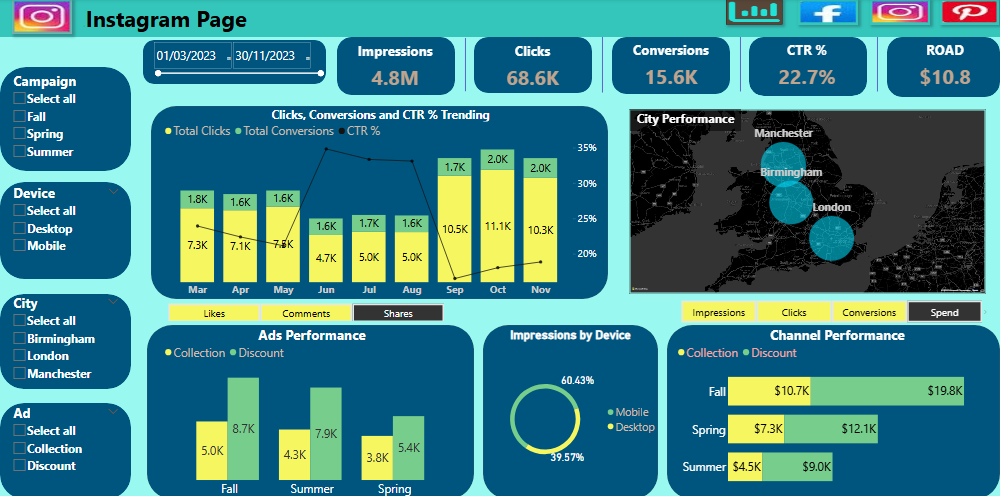

The dashboard page shown, as its layout file describes it:
{"tool":"powerbi","page":{"name":"Instagram","canvas":[4000,2000],"ordinal":2},"visuals":[{"type":"shape","box":[0,0,4000,152],"z":0},{"type":"textbox","box":[288,12,736,140],"z":1000},{"type":"shape","box":[0,272,524,416],"z":2000},{"type":"slicer","fields":{"Values":["Data.Campaign"]},"box":[40,284,444,388],"z":3000},{"type":"shape","box":[0,732,524,388],"z":4000},{"type":"shape","box":[0,1180,524,380],"z":5000},{"type":"shape","box":[0,1616,524,384],"z":6000},{"type":"slicer","fields":{"Values":["Data.City"]},"box":[40,1172,444,388],"z":7000},{"type":"slicer","fields":{"Values":["Data.Ad"]},"box":[40,1612,444,388],"z":8000},{"type":"shape","box":[572,164,732,176],"z":9000},{"type":"slicer","fields":{"Values":["Calendar.Date"]},"box":[604,164,700,176],"z":10000},{"type":"shape","box":[604,428,1828,772],"z":11000},{"type":"lineStackedColumnComboChart","title":"Clicks, Conversions and CTR % Trending","fields":{"Category":["Calendar.Month_Name","Calendar.Day_Name"],"Y":["_measures.Total Clicks","_measures.Total Conversions"],"Y2":["_measures.CTR %"]},"box":[648,428,1748,772],"z":12000},{"type":"map","title":"City Performance","fields":{"Category":["Data.City"],"Size":["_measures.CPC"]},"box":[2516,440,1428,740],"z":13000},{"type":"shape","box":[2668,1304,1332,696],"z":14000},{"type":"shape","box":[588,1304,1308,696],"z":15000},{"type":"clusteredColumnChart","title":"Ads Performance","fields":{"Y":["_measures.Total Shares"],"Category":["Data.Campaign"],"Series":["Data.Ad"]},"box":[648,1304,1200,696],"z":16000},{"type":"shape","box":[1932,1304,700,696],"z":17000},{"type":"donutChart","fields":{"Category":["Data.Device"],"Y":["_measures.Total Impressions"]},"box":[1930.9,1315.5,700.1,673.4],"z":18000},{"type":"slicer","fields":{"Values":["Data.Device"]},"box":[40.1,731.3,445.9,388],"z":19000},{"type":"image","box":[48,0,240,140],"z":20000},{"type":"image","box":[2903,0,227.4,102.6],"z":21000},{"type":"image","box":[3192.9,0,240.8,102.6],"z":22000},{"type":"image","box":[3478.3,0,240.8,102.6],"z":23000},{"type":"image","box":[3759.2,0,236.3,102.6],"z":24000},{"type":"shape","box":[1348,152,472,232],"z":25000},{"type":"shape","box":[2996,152,472,236],"z":26000},{"type":"shape","box":[3548,152,452,240],"z":27000},{"type":"card","title":"Impressions","fields":{"Values":["_measures.Total Impressions"]},"box":[1360.1,169.5,441.5,205.1],"z":28000},{"type":"shape","box":[1896,152,472,224],"z":29000},{"type":"shape","box":[2448,152,472,228],"z":30000},{"type":"card","title":"Clicks","fields":{"Values":["_measures.Total Clicks"]},"box":[1913,169.5,437,205.1],"z":31000},{"type":"card","title":"Conversions","fields":{"Values":["_measures.Total Conversions"]},"box":[2470.5,165,423.6,205.1],"z":32000},{"type":"card","title":"CTR %","fields":{"Values":["_measures.CTR %"]},"box":[3032.3,165,392.4,209.6],"z":33000},{"type":"card","title":"ROAD","fields":{"Values":["_measures.ROAD"]},"box":[3621,165,321.1,205.1],"z":34000},{"type":"shape","box":[1823.9,156.1,75.8,214],"z":35000},{"type":"shape","box":[2372.4,151.6,75.8,223],"z":36000},{"type":"shape","box":[2925.3,151.6,75.8,218.5],"z":37000},{"type":"shape","box":[3473.8,151.6,75.8,218.5],"z":38000},{"type":"slicer","fields":{"Values":["Parameter.Parameter"]},"box":[2700,1200,1296,100],"z":39000},{"type":"barChart","title":"Channel Performance","fields":{"Y":["_measures.Total Impressions"],"Category":["Data.Campaign"],"Series":["Data.Ad"]},"box":[2700,1304,1300,696],"z":40000},{"type":"slicer","fields":{"Values":["Parameter.Parameter"]},"box":[648,1212,1152,76],"z":41000},{"type":"textbox","box":[2520,440,444,88],"z":42000}]}

Visuals, with their boxes in screenshot pixels (x1, y1, x2, y2), scaled from the page's 4000x2000 canvas onto the 1000x496 screenshot:
shape: box(0, 0, 999, 38)
textbox: box(72, 3, 256, 38)
shape: box(0, 67, 131, 171)
slicer - Data.Campaign: box(10, 70, 121, 167)
shape: box(0, 182, 131, 278)
shape: box(0, 293, 131, 387)
shape: box(0, 401, 131, 495)
slicer - Data.City: box(10, 291, 121, 387)
slicer - Data.Ad: box(10, 400, 121, 495)
shape: box(143, 41, 326, 84)
slicer - Calendar.Date: box(151, 41, 326, 84)
shape: box(151, 106, 608, 298)
"Clicks, Conversions and CTR % Trending" lineStackedColumnComboChart: box(162, 106, 599, 298)
"City Performance" map: box(629, 109, 986, 293)
shape: box(667, 323, 999, 495)
shape: box(147, 323, 474, 495)
"Ads Performance" clusteredColumnChart: box(162, 323, 462, 495)
shape: box(483, 323, 658, 495)
donutChart - Data.Device x _measures.Total Impressions: box(483, 326, 658, 493)
slicer - Data.Device: box(10, 181, 122, 278)
image: box(12, 0, 72, 35)
image: box(726, 0, 783, 25)
image: box(798, 0, 858, 25)
image: box(870, 0, 930, 25)
image: box(940, 0, 999, 25)
shape: box(337, 38, 455, 95)
shape: box(749, 38, 867, 96)
shape: box(887, 38, 999, 97)
"Impressions" card: box(340, 42, 450, 93)
shape: box(474, 38, 592, 93)
shape: box(612, 38, 730, 94)
"Clicks" card: box(478, 42, 588, 93)
"Conversions" card: box(618, 41, 724, 92)
"CTR %" card: box(758, 41, 856, 93)
"ROAD" card: box(905, 41, 986, 92)
shape: box(456, 39, 475, 92)
shape: box(593, 38, 612, 93)
shape: box(731, 38, 750, 92)
shape: box(868, 38, 887, 92)
slicer - Parameter.Parameter: box(675, 298, 999, 322)
"Channel Performance" barChart: box(675, 323, 999, 495)
slicer - Parameter.Parameter: box(162, 301, 450, 319)
textbox: box(630, 109, 741, 131)
